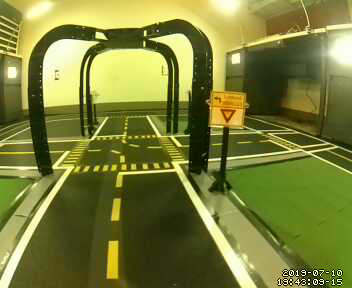Turn Yield: (208, 90, 244, 130)
